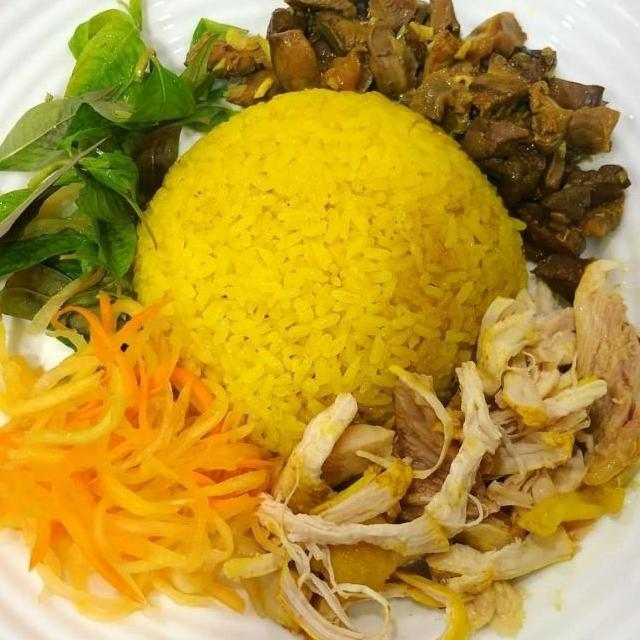com: (124, 81, 535, 457)
com ga: (0, 6, 640, 640)
rau ram: (0, 0, 255, 356)
thit ga: (219, 352, 590, 640), (469, 248, 640, 545)
